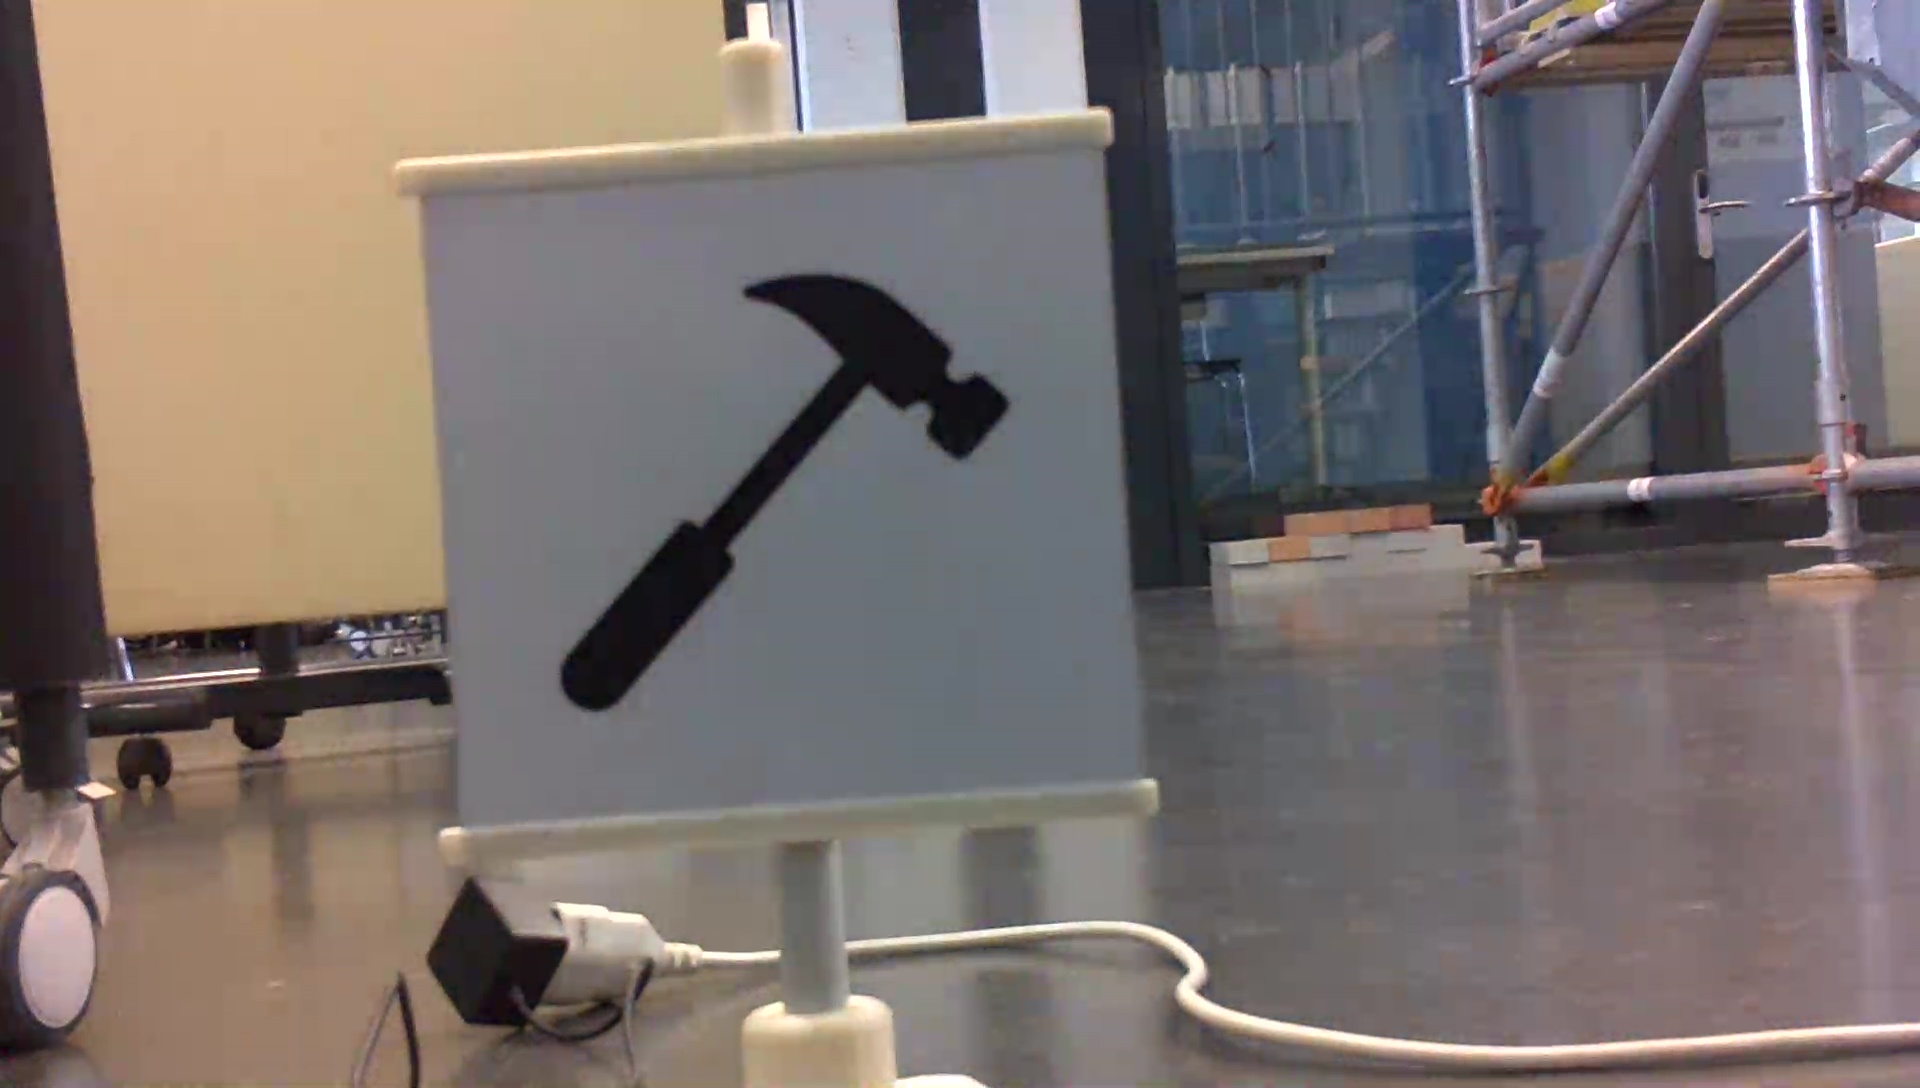hammer: (550, 266, 1021, 720)
